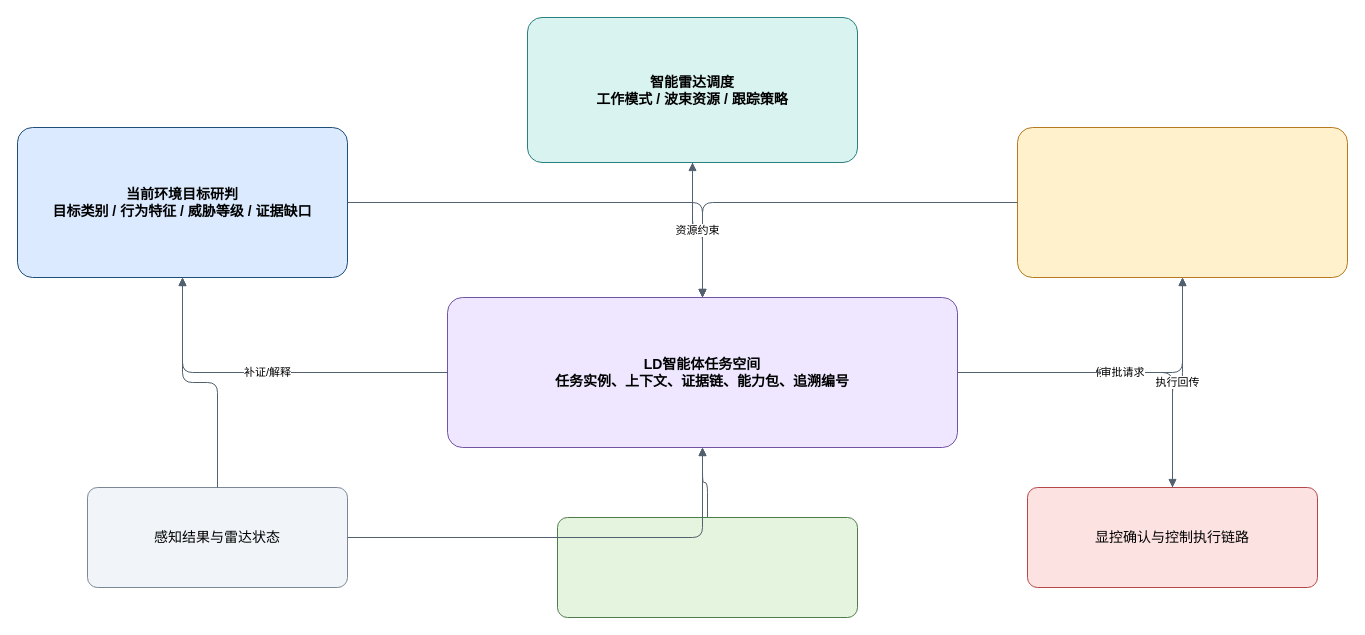
This 1365x635 diagram has some shape labels left out. The shapes that lost their labels are listed below. From the top down, each one's centre as x and y in pixels, then its label:
the point at 1182,202: 波形参数设置建议 波形 / 门限 / 参数版本 / 回滚条件
the point at 707,567: 数据知识底座与历史经验
